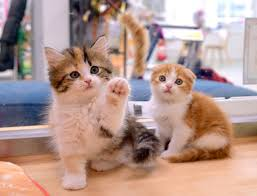cat: (40, 36, 156, 190), (151, 63, 236, 178)
